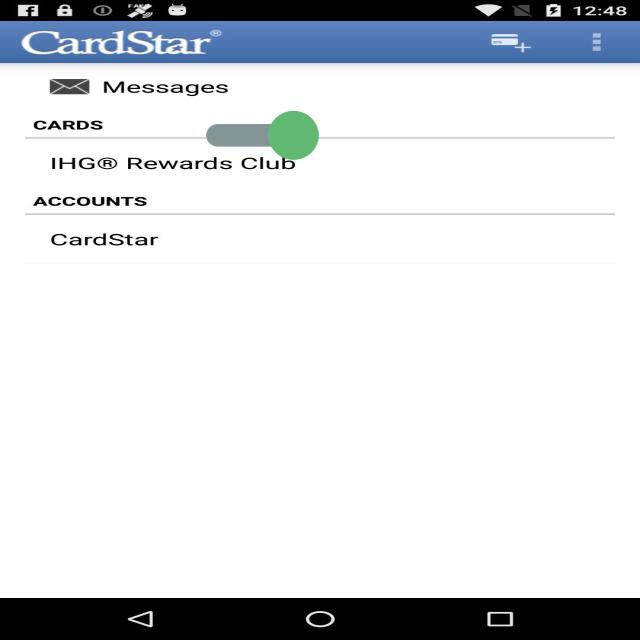social proof: (206, 81, 319, 190)
